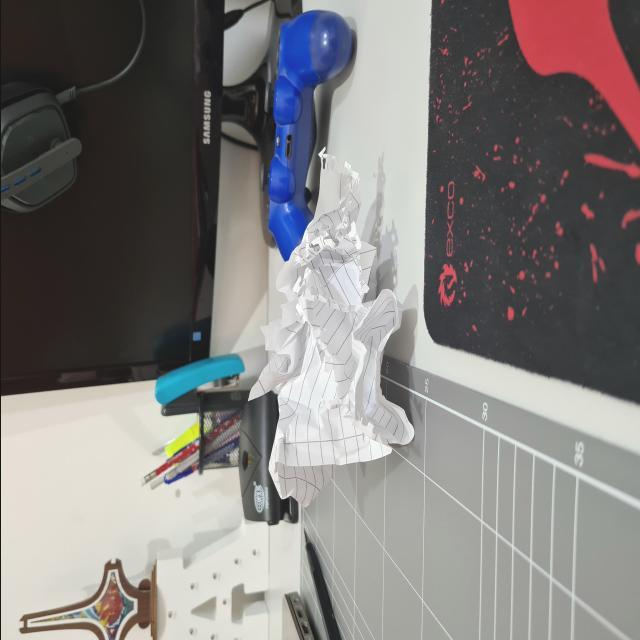Paper: (230, 130, 450, 500)
